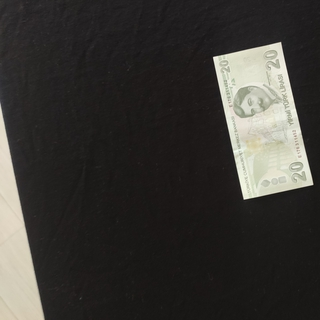20TLBack: (212, 41, 314, 200)
